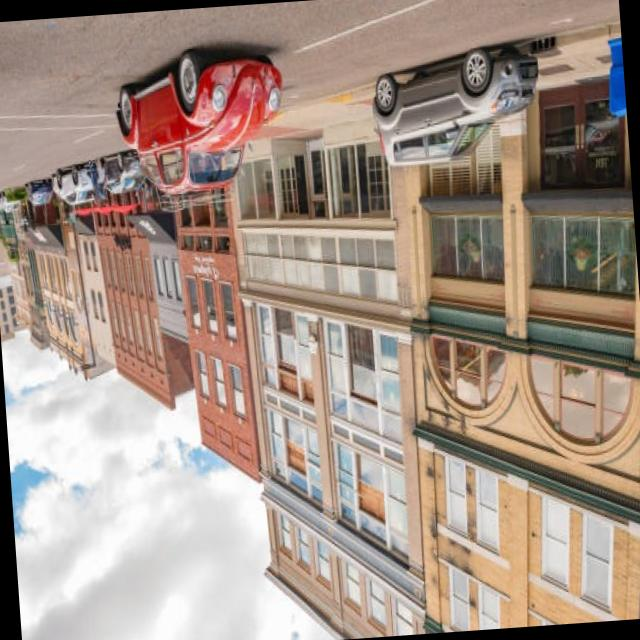car: (111, 56, 289, 196), (371, 42, 547, 180)
